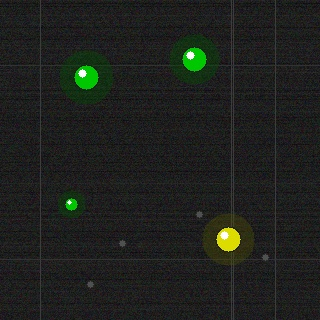green_normal: (72, 63, 100, 91), (180, 45, 208, 73), (63, 196, 79, 212)
yellow_warning: (214, 225, 242, 253)
